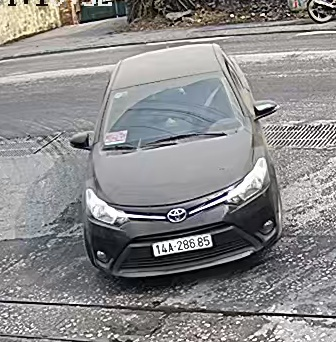vehicle plate: (151, 231, 215, 259)
